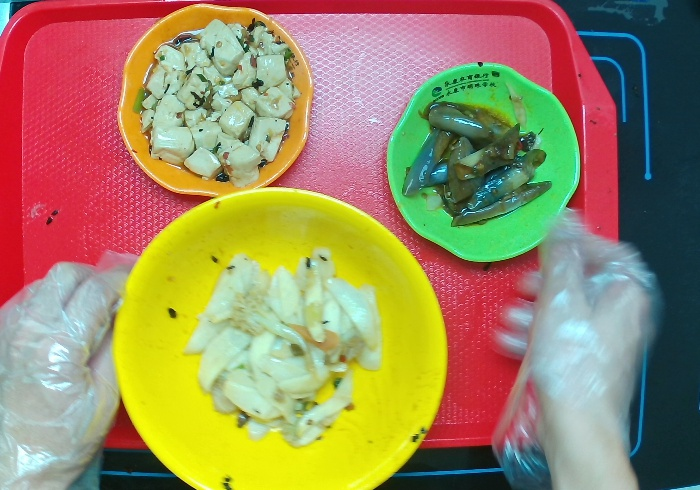YKMZ-Huang_Se_Tang_Wan: (111, 185, 448, 490)
YKMZ-Ju_Se_Ao_Bian_Wan: (117, 1, 316, 199)
YKMZ-Lv_Se_Ao_Bian_Wan: (385, 60, 585, 263)
